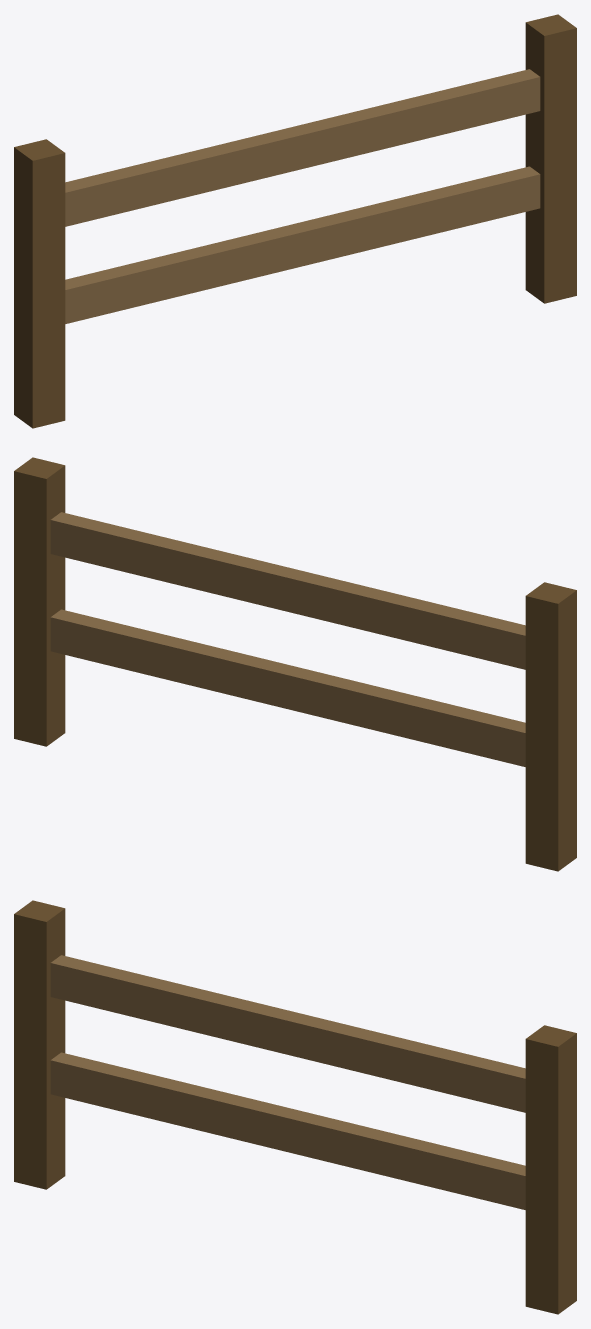
The model's file is prop_fence_01.glb.
3 renders of one model, top to bottom at view 1: azimuth 30°, elevation 25°; view 2: azimuth 150°, elevation 25°; view 3: azimuth 330°, elevation 25°, orthographic.
Parts seen in each view (by area): view 1: prop_fence_01_part2, prop_fence_01_part3, prop_fence_01_part0, prop_fence_01_part1; view 2: prop_fence_01_part2, prop_fence_01_part3, prop_fence_01_part0, prop_fence_01_part1; view 3: prop_fence_01_part2, prop_fence_01_part3, prop_fence_01_part1, prop_fence_01_part0.
Part boxes in pixels (left/top/right/bottom): prop_fence_01_part2: left=65, top=69, right=540, bottom=226; prop_fence_01_part3: left=65, top=166, right=540, bottom=323; prop_fence_01_part0: left=14, top=139, right=65, bottom=428; prop_fence_01_part1: left=525, top=14, right=576, bottom=303; prop_fence_01_part2: left=50, top=512, right=525, bottom=669; prop_fence_01_part3: left=50, top=609, right=525, bottom=766; prop_fence_01_part0: left=525, top=582, right=576, bottom=871; prop_fence_01_part1: left=14, top=457, right=65, bottom=746; prop_fence_01_part2: left=50, top=955, right=525, bottom=1112; prop_fence_01_part3: left=50, top=1052, right=525, bottom=1209; prop_fence_01_part1: left=525, top=1025, right=576, bottom=1314; prop_fence_01_part0: left=14, top=900, right=65, bottom=1189.
Bounding box in the file's own units: 2.34 × 1.1 × 0.14.
